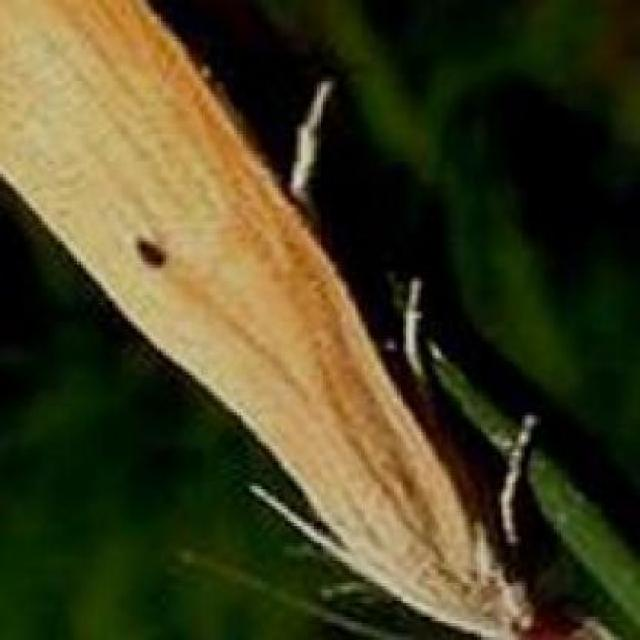stem-borer: (0, 0, 612, 638)
